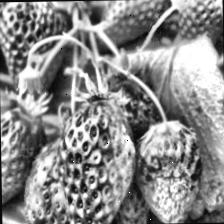Powdery Mildew Fruit: (54, 95, 138, 224), (132, 118, 205, 224)
